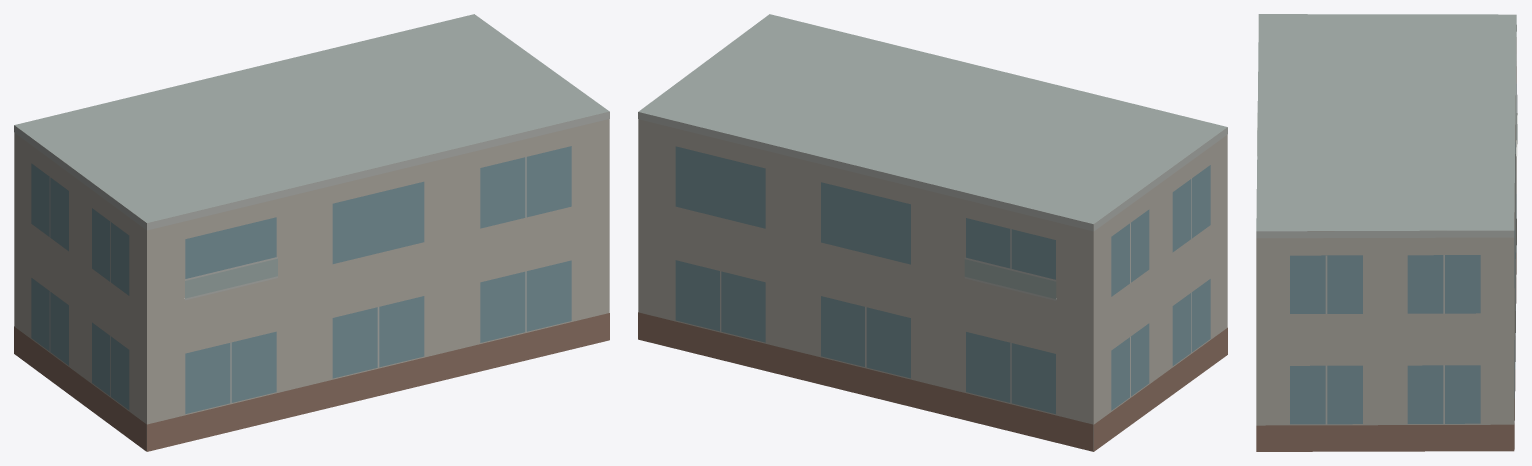
Rendered from survey-upis-32630133.glb.
3 renders of one model, left to right at view 1: azimuth 30°, elevation 25°; view 2: azimuth 150°, elevation 25°; view 3: azimuth 270°, elevation 25°, orthographic. The views are drawn at different scales.
Parts seen in each view (by area): view 1: survey-upis-32630133.tmp; view 2: survey-upis-32630133.tmp; view 3: survey-upis-32630133.tmp.
Boxes of the visible parts, x1=… form: survey-upis-32630133.tmp: x1=14, y1=14, x2=609, y2=451; survey-upis-32630133.tmp: x1=638, y1=14, x2=1227, y2=451; survey-upis-32630133.tmp: x1=1256, y1=14, x2=1517, y2=451.
Bounding box in the file's own units: 16.06 × 7.6 × 8.17.
